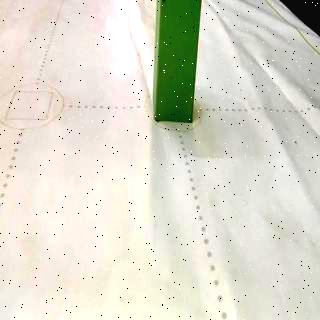greenbox: (154, 1, 203, 124)
